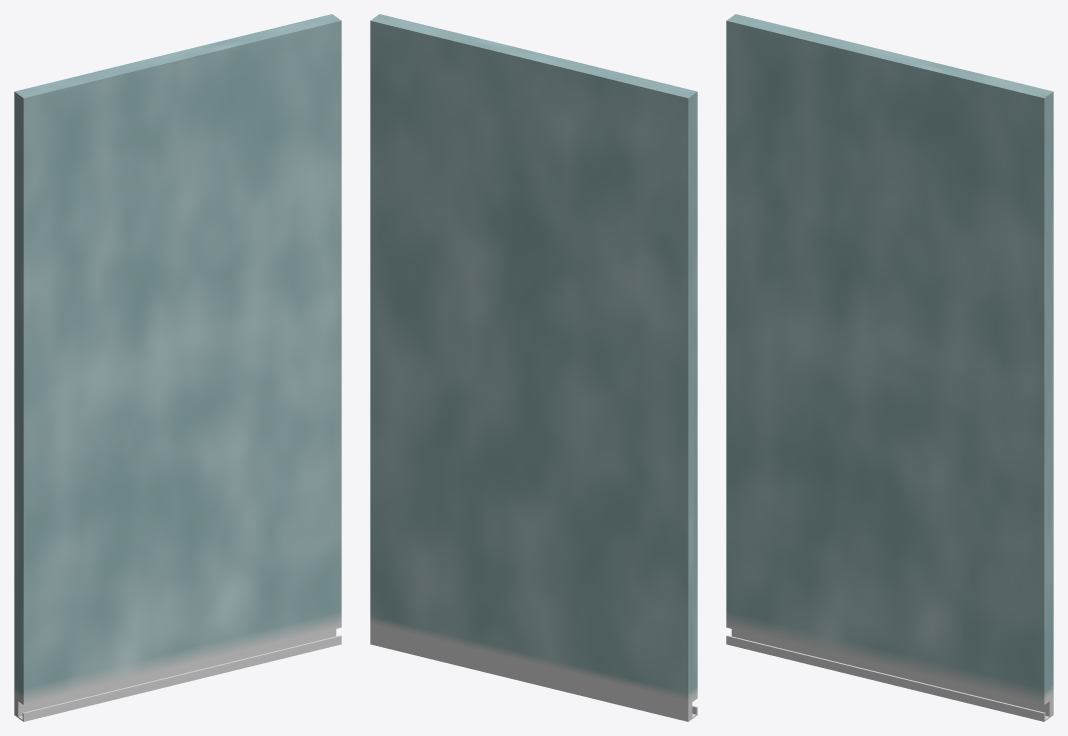
The model's file is top_shelf_right_door.fbx.
3 views of the same model, side by side, from view 1: azimuth 30°, elevation 25°; view 2: azimuth 150°, elevation 25°; view 3: azimuth 330°, elevation 25° (orthographic).
Visible parts, largest first — view 1: top_shelf_right_door_Baked; view 2: top_shelf_right_door_Baked; view 3: top_shelf_right_door_Baked.
Boxes of the visible parts, <box> form: top_shelf_right_door_Baked: <box>14,14,341,721</box>; top_shelf_right_door_Baked: <box>370,14,697,721</box>; top_shelf_right_door_Baked: <box>726,14,1053,721</box>.
Size of the model in its own units: 39.58 by 74.2 by 1.99.
